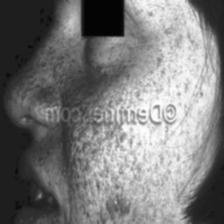Unclassified: (53, 128, 125, 224), (30, 60, 125, 102), (23, 216, 55, 224)
